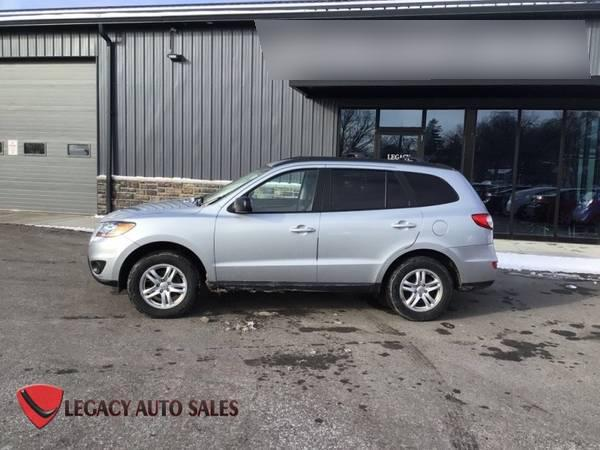Front_Bumper: (87, 236, 142, 284)
Front_Fender: (112, 203, 223, 285)
Front_Left_Door: (215, 213, 321, 285)
Front_Left_Window: (221, 167, 331, 215)
Left_Headlight: (94, 221, 136, 237)
Left_Taillight: (471, 213, 494, 228)
Rear_Bumper: (439, 243, 499, 287)
Rear_Fender: (399, 170, 493, 250)
Rear_Left_Door: (318, 208, 423, 284)
Rear_Left_Window: (323, 167, 423, 212)
Roof: (209, 156, 481, 209)
Wheel: (125, 249, 200, 317), (387, 254, 454, 319)
